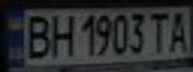0: (112, 10, 133, 56)
1: (75, 11, 96, 56)
3: (127, 10, 151, 55)
9: (93, 10, 115, 56)
A: (166, 8, 193, 54)
B: (21, 11, 54, 60)
H: (48, 11, 78, 58)
T: (148, 9, 172, 54)
